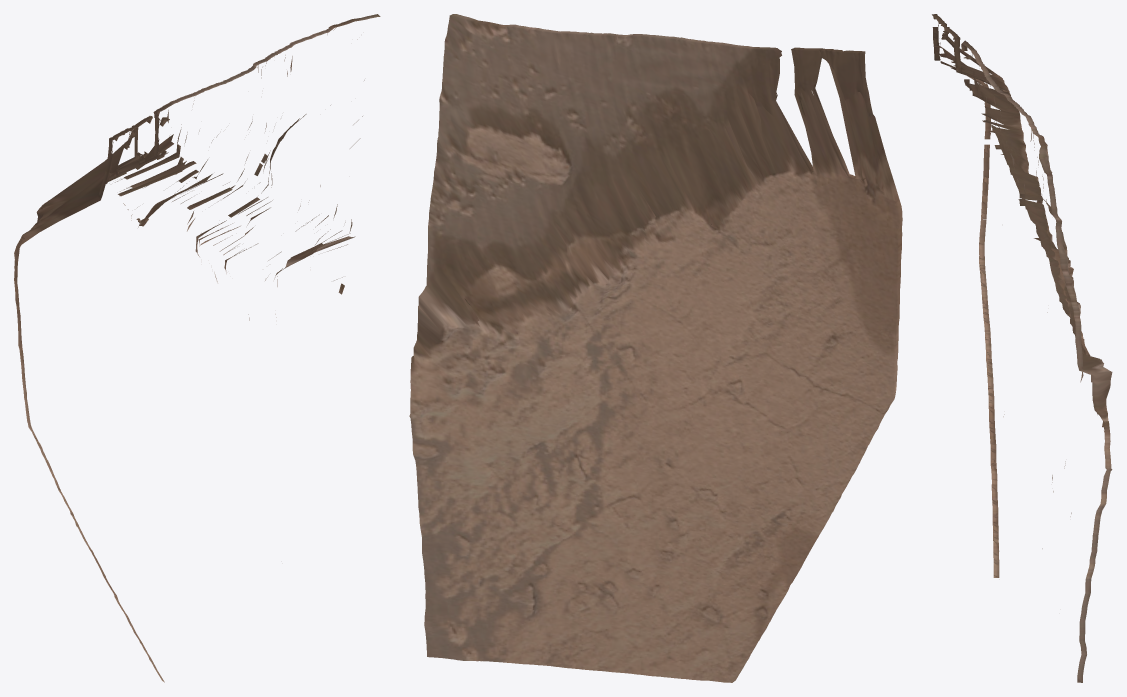
3 renders of one model, left to right at view 1: azimuth 30°, elevation 25°; view 2: azimuth 150°, elevation 25°; view 3: azimuth 270°, elevation 25°, orthographic. The views are drawn at different scales.
Bounding box in the file's own units: 0.7209 × 1.03 × 0.3216.
Materials: 1 (1 with a texture image).
